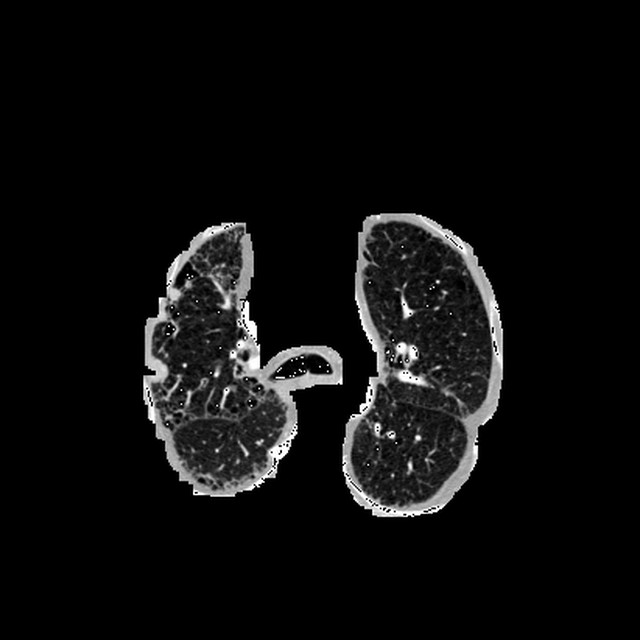PN: (162, 293, 178, 308)
